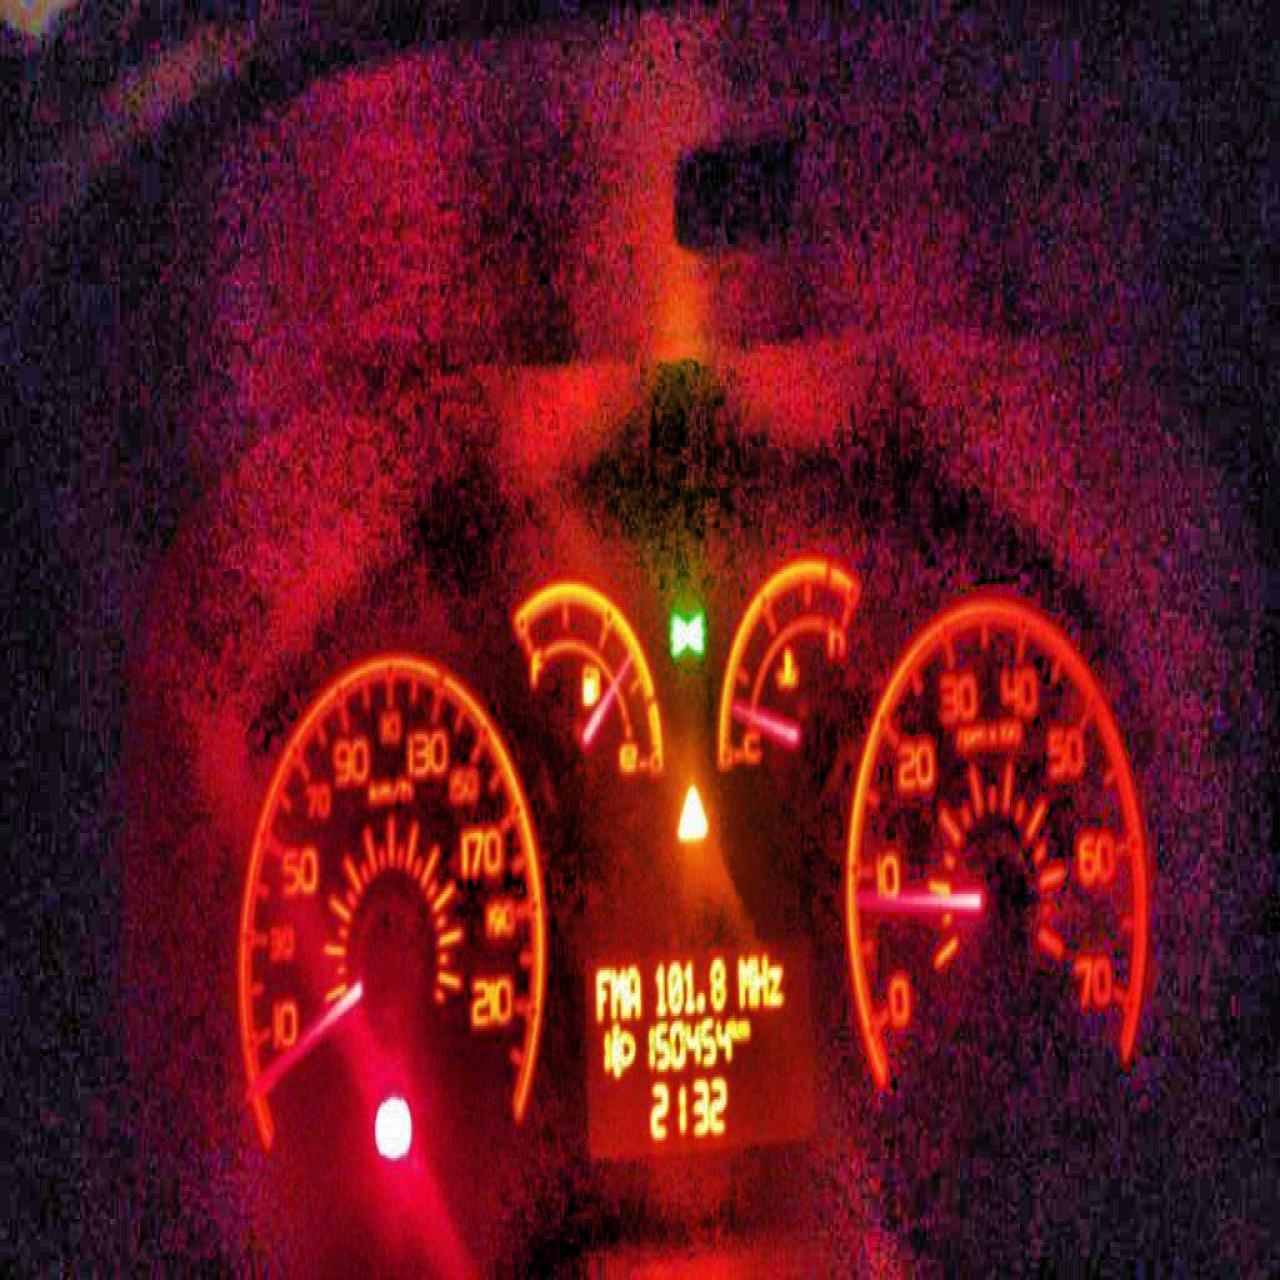-: (695, 986, 706, 1014)
0: (667, 955, 682, 1019), (669, 1019, 685, 1069)
1: (673, 1075, 688, 1141), (651, 958, 665, 1019), (682, 955, 695, 1016), (644, 1019, 654, 1071), (600, 1026, 610, 1074)
2: (648, 1077, 670, 1141), (708, 1071, 728, 1136)
3: (690, 1074, 709, 1138)
4: (685, 1016, 700, 1069), (715, 1016, 731, 1064)
5: (700, 1013, 715, 1067), (654, 1019, 667, 1071)
8: (708, 952, 728, 1010)
X: (625, 962, 641, 1021), (736, 949, 753, 1008), (753, 949, 769, 1008), (592, 962, 608, 1021), (610, 962, 625, 1021), (769, 960, 783, 1006), (740, 1016, 749, 1039), (733, 1016, 740, 1039)
odometer: (572, 922, 828, 1176)
